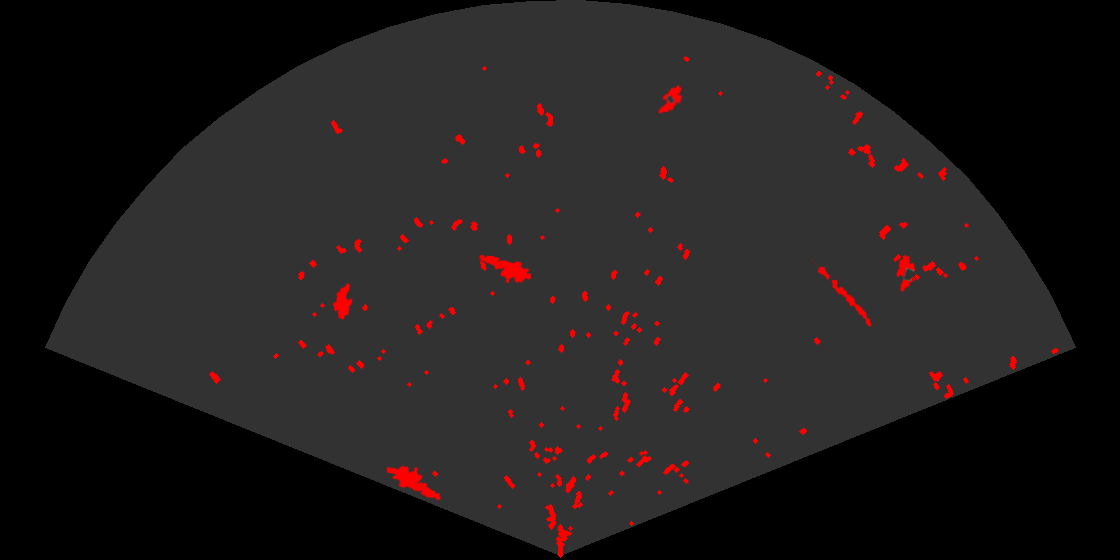AUV: (895, 253, 918, 294), (331, 281, 354, 322), (657, 84, 684, 115)
chain: (811, 256, 873, 328)
frogman: (387, 464, 443, 502), (478, 253, 531, 285)
